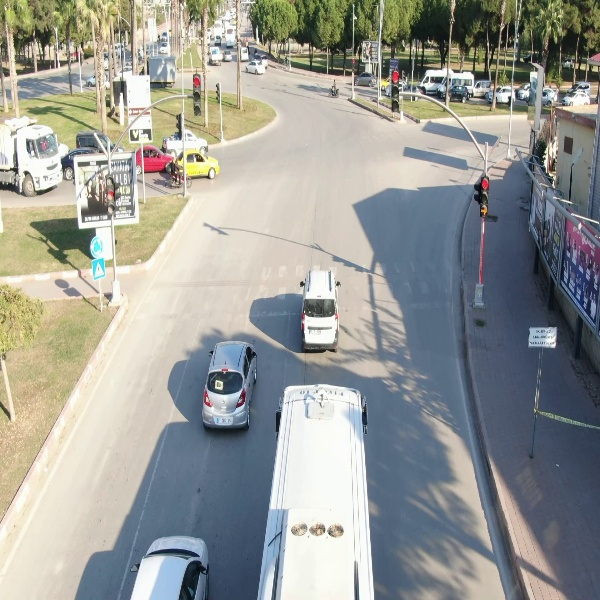car: (201, 341, 259, 433), (297, 266, 342, 357), (485, 85, 516, 107), (440, 84, 474, 104), (350, 70, 378, 90), (561, 89, 592, 107), (245, 59, 269, 77), (237, 45, 250, 64)
